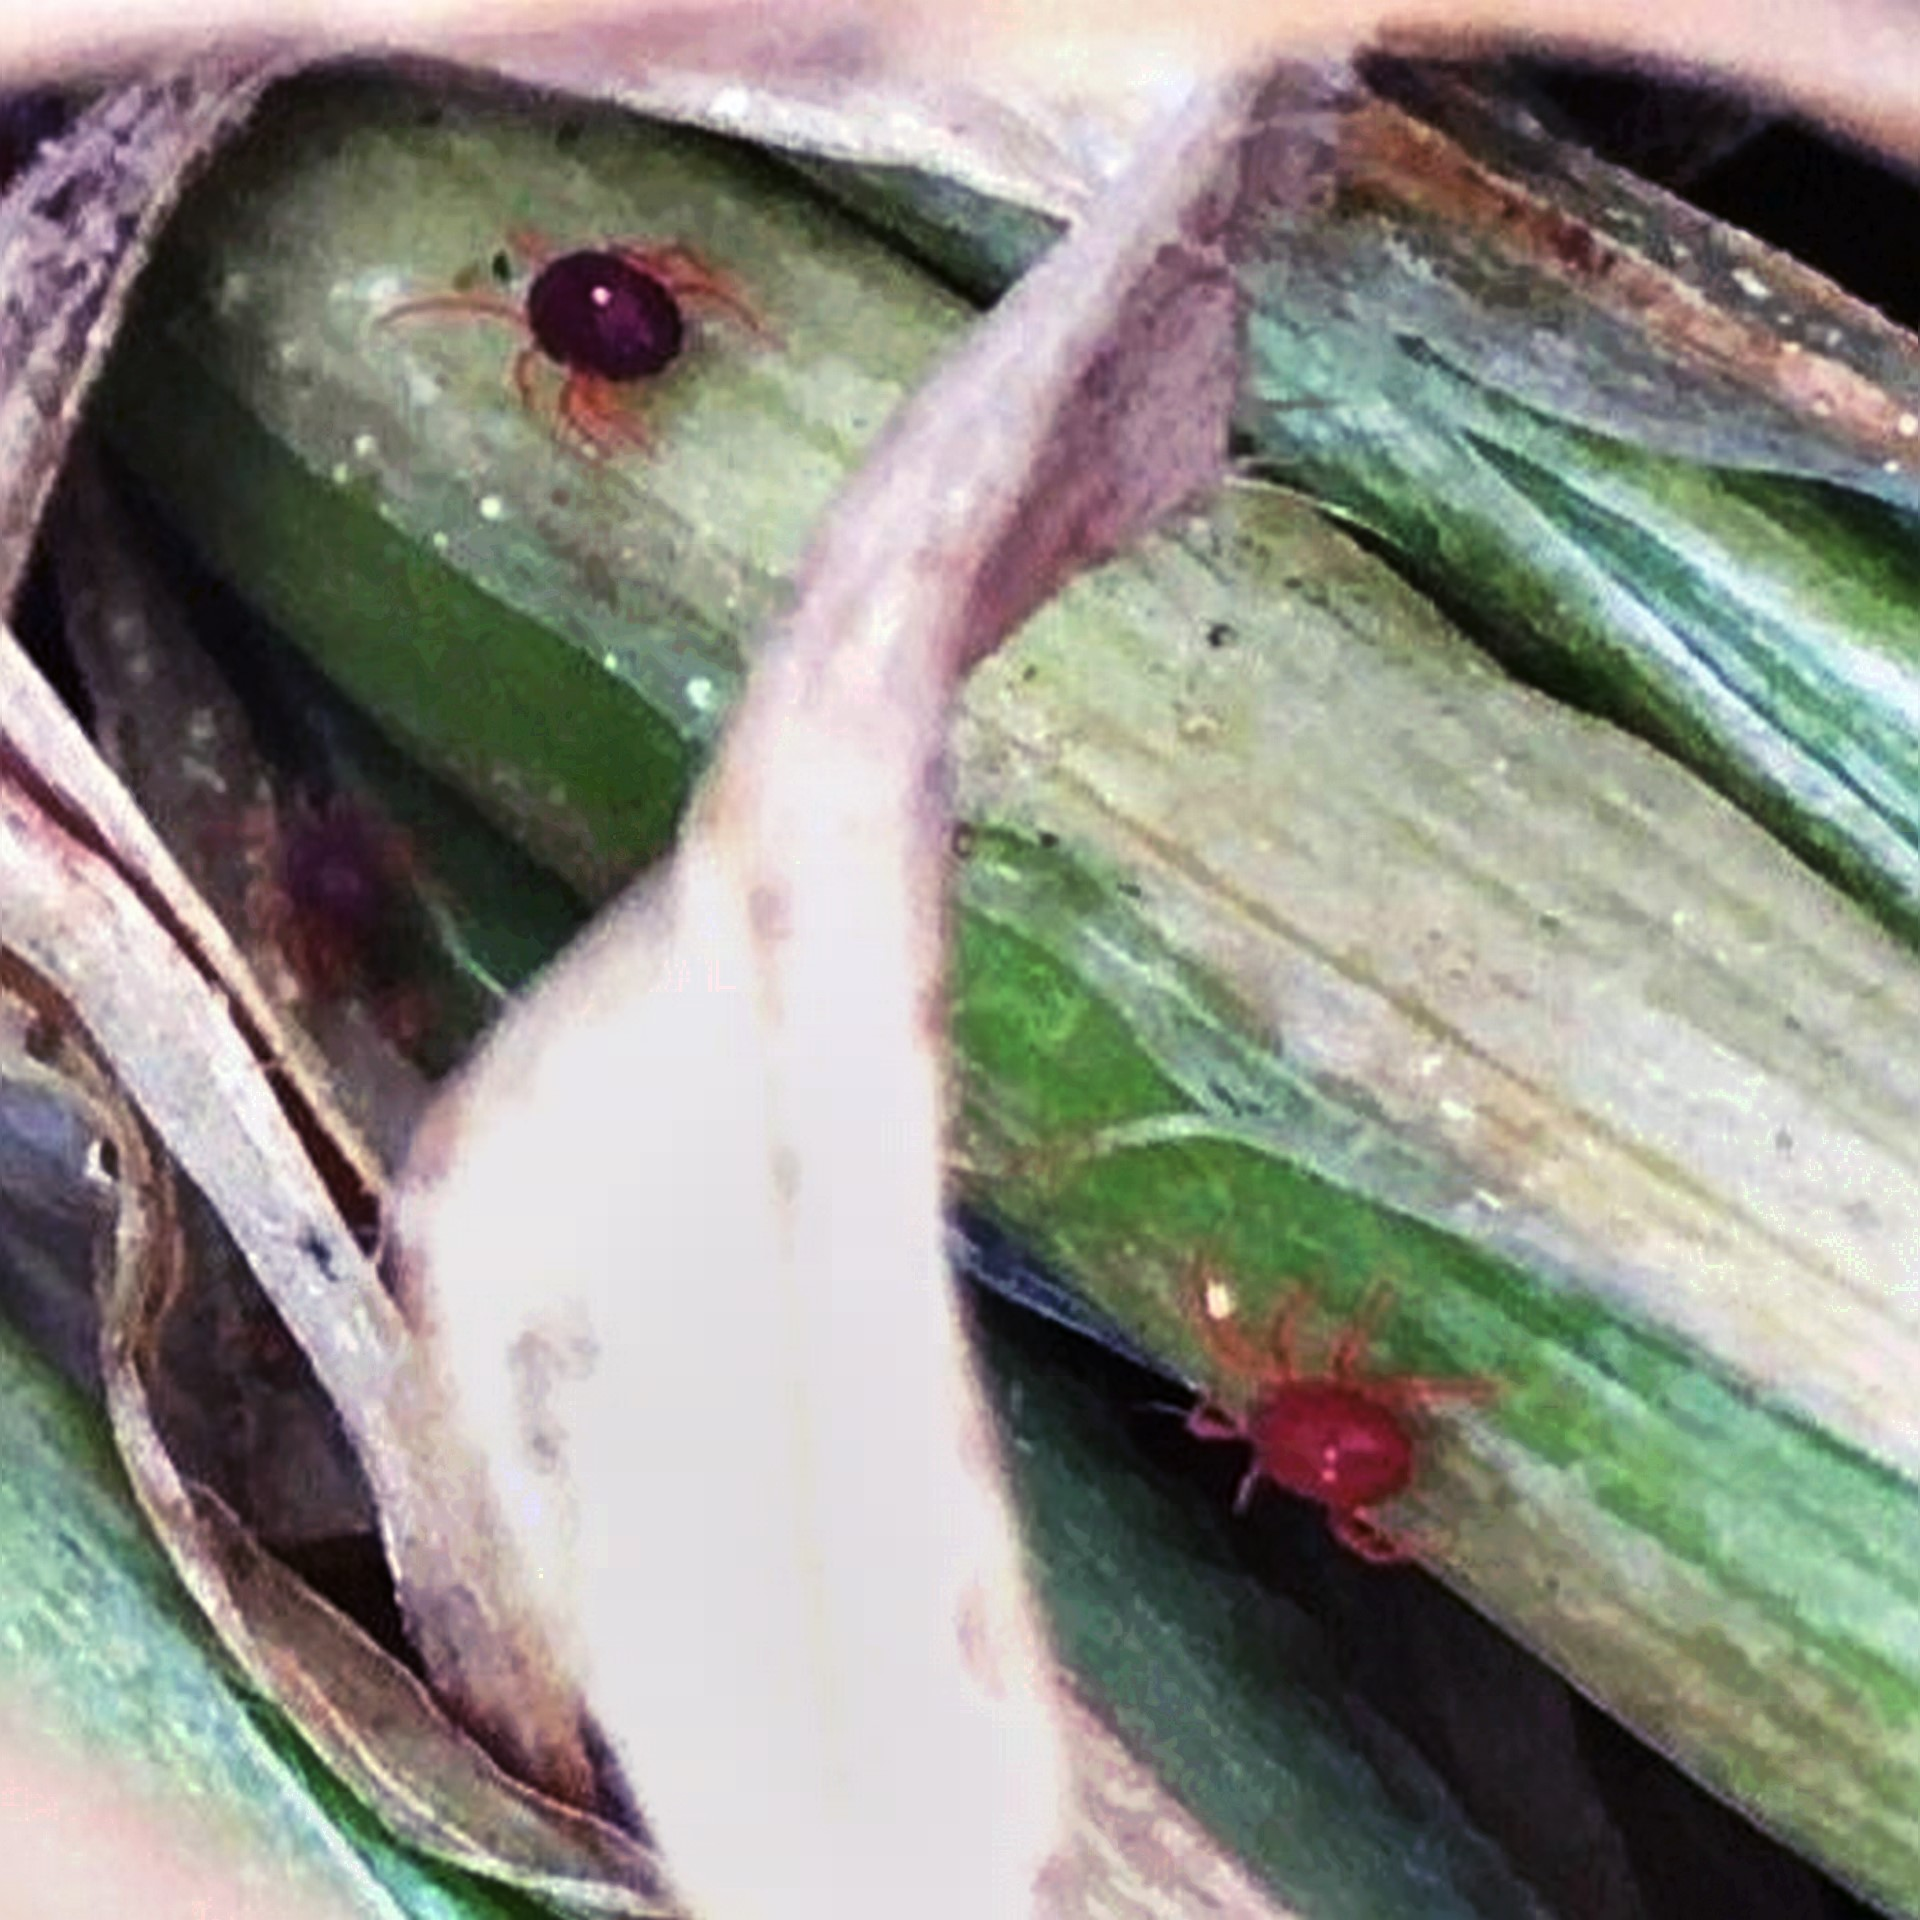Wheat Red Spider: (1115, 1217, 1495, 1607)
